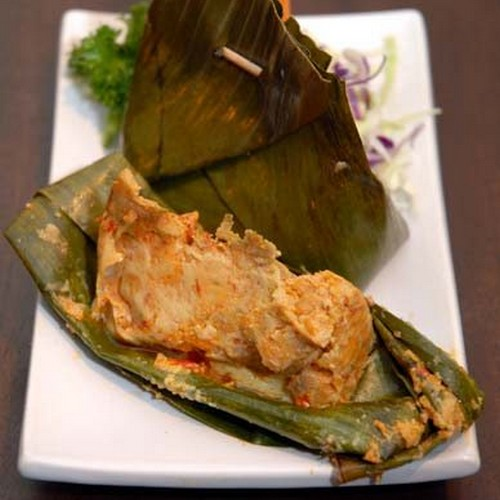tum ayam: (84, 167, 372, 419)
